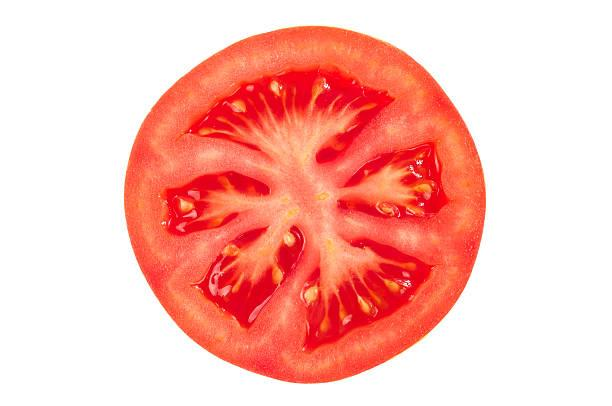Tomato: (119, 22, 484, 380)
